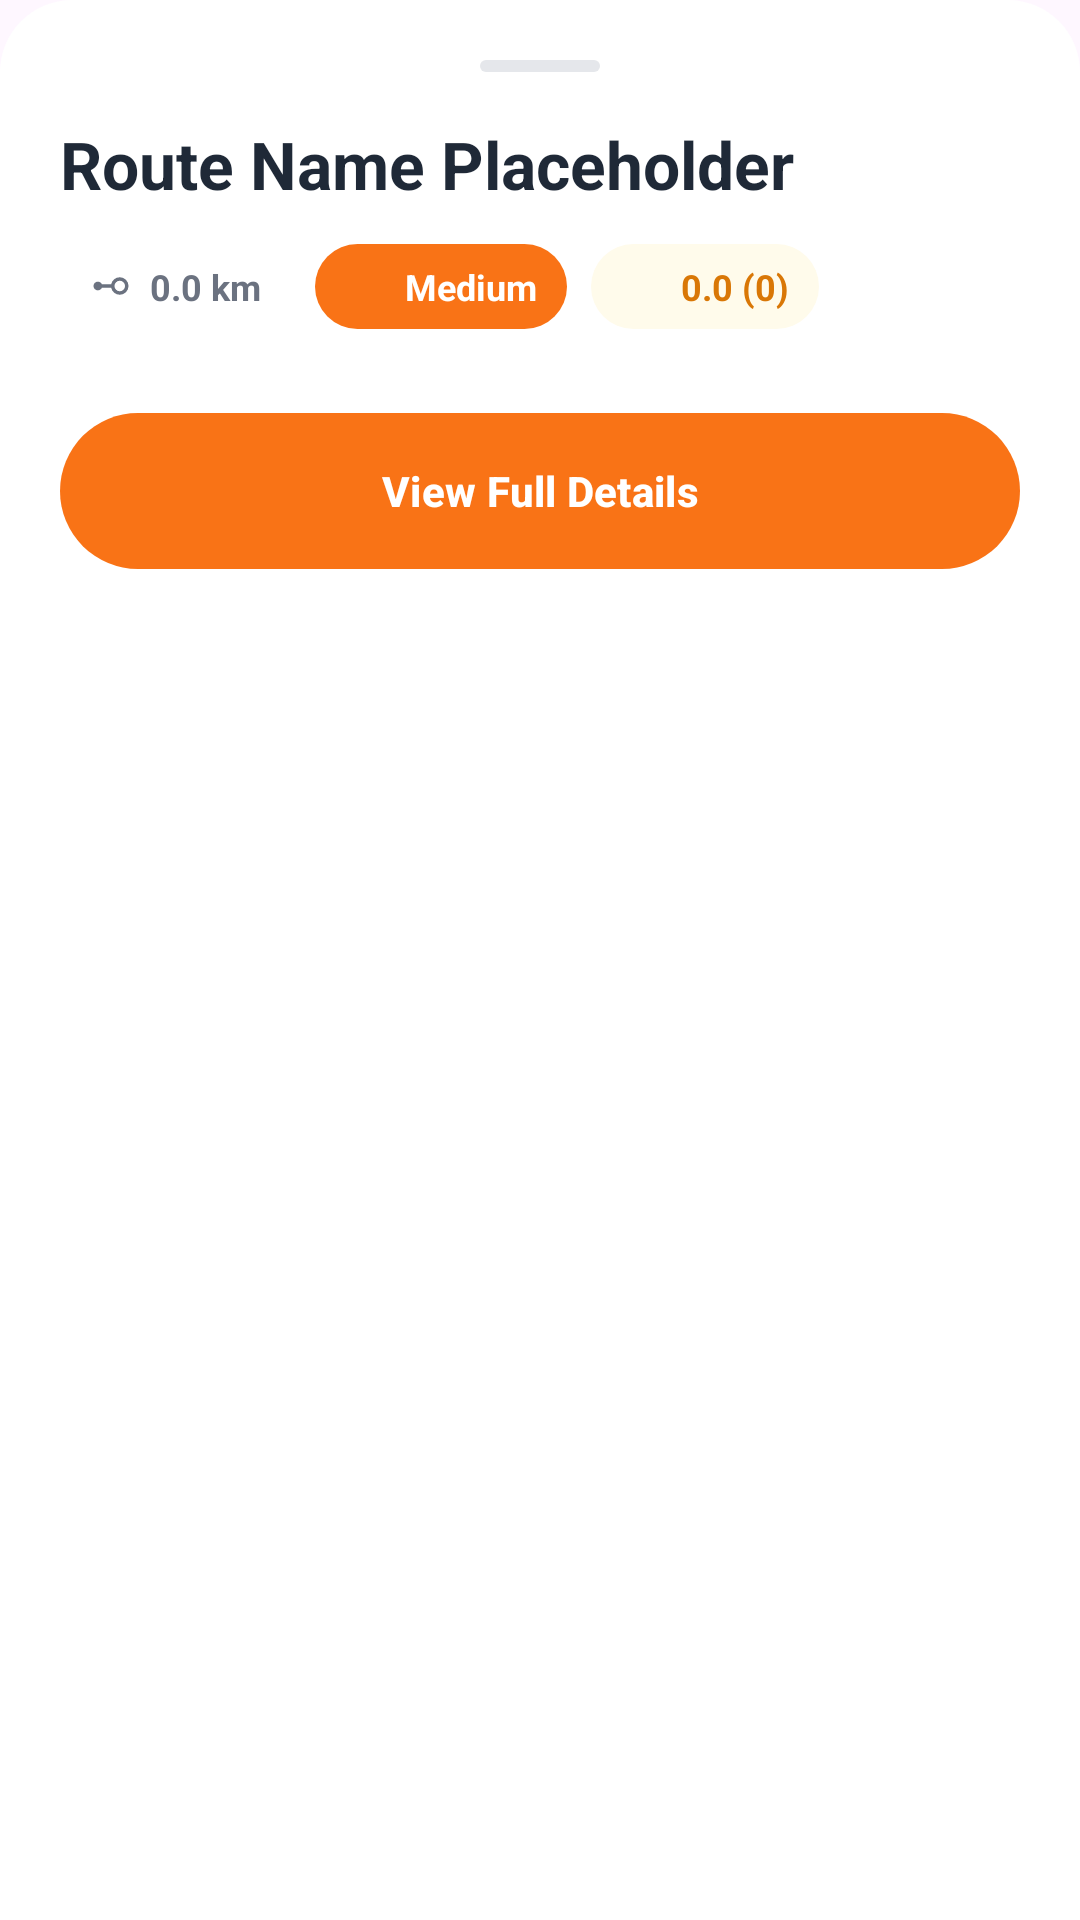

Icon bounding boxes for this 1080 × 1920 phone screenshot, format (x1, y1, x2, y2):
linear scale: (93, 277, 129, 295)
